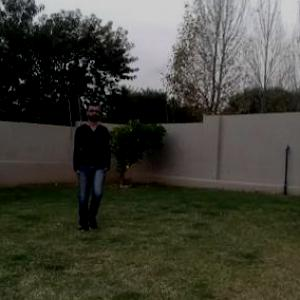follow: (75, 104, 107, 229)
